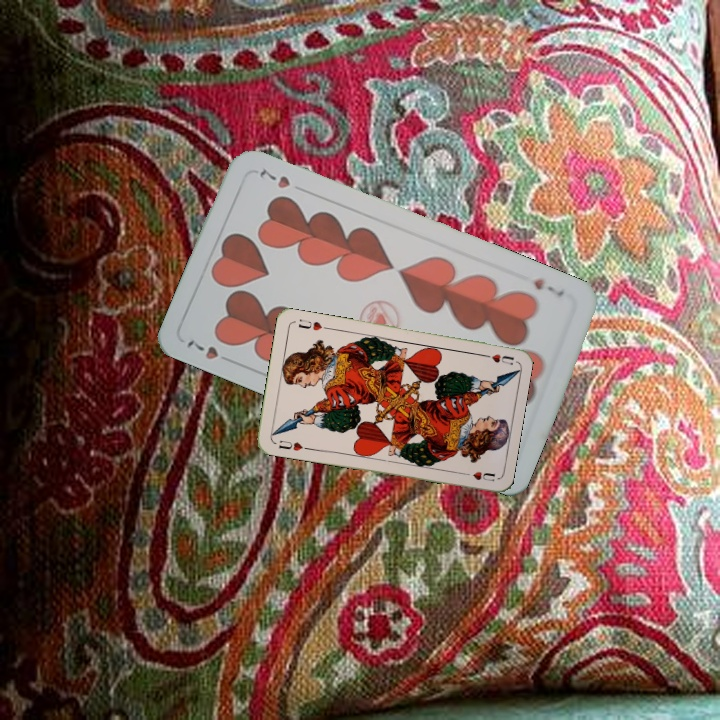H7: (182, 335, 237, 367), (529, 274, 567, 301)
HU: (477, 350, 516, 368), (275, 436, 311, 454)
